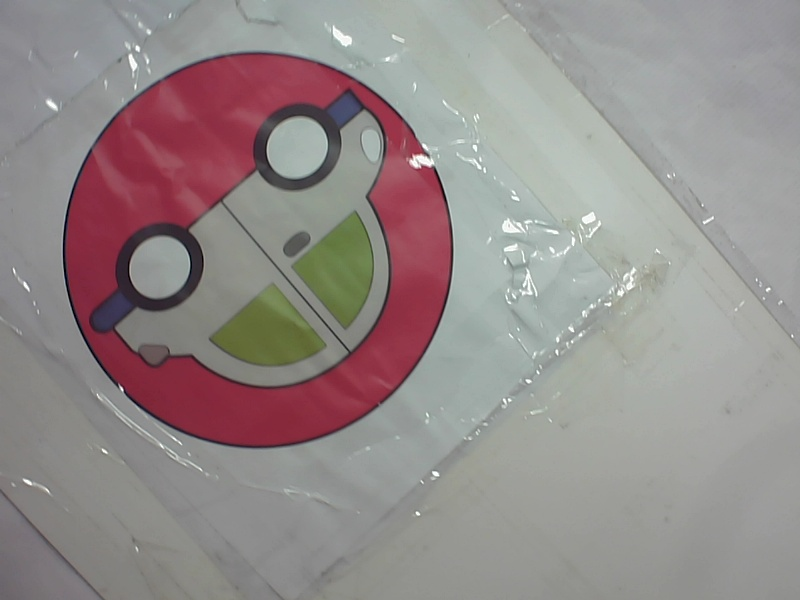areaC: (39, 40, 478, 452)
